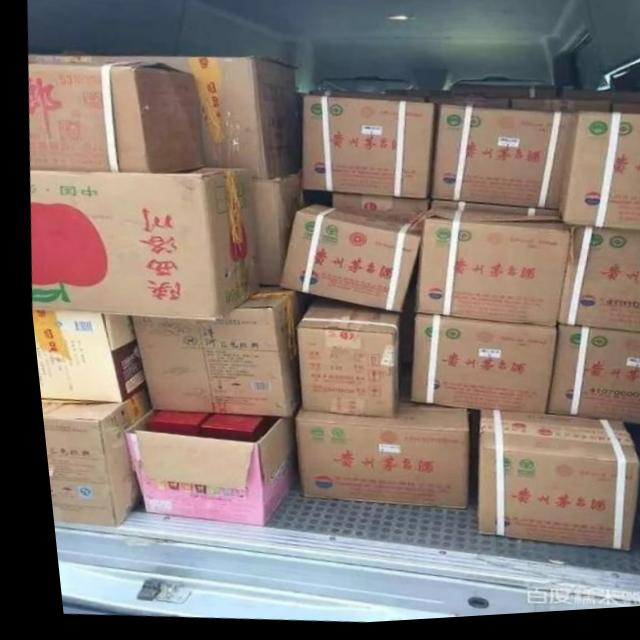box: (25, 166, 256, 322), (26, 53, 297, 182), (123, 288, 308, 417), (466, 415, 629, 557), (110, 410, 289, 527), (26, 62, 202, 175), (408, 205, 562, 333), (286, 405, 457, 515), (425, 108, 571, 216), (33, 382, 140, 526), (272, 208, 415, 315), (401, 318, 548, 420), (298, 93, 431, 202), (289, 299, 395, 421), (534, 331, 640, 432), (552, 118, 640, 238), (25, 310, 136, 402), (548, 232, 640, 340), (248, 177, 298, 289), (327, 197, 426, 232), (505, 107, 608, 120), (445, 90, 528, 106), (422, 102, 507, 113), (608, 109, 640, 121)
